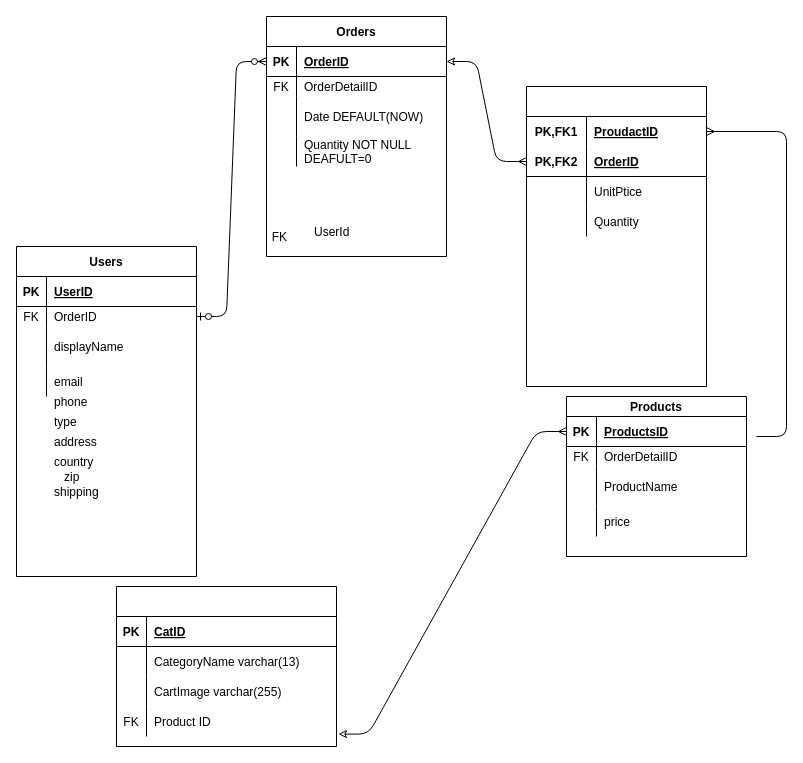
Image size: 803x763. Some labels were removed from this diagram. Here are the shapes that lost their labels. From the top down, the box of each, then its label:
(526, 86, 706, 386): OrderDetails
(116, 586, 336, 746): Categories
